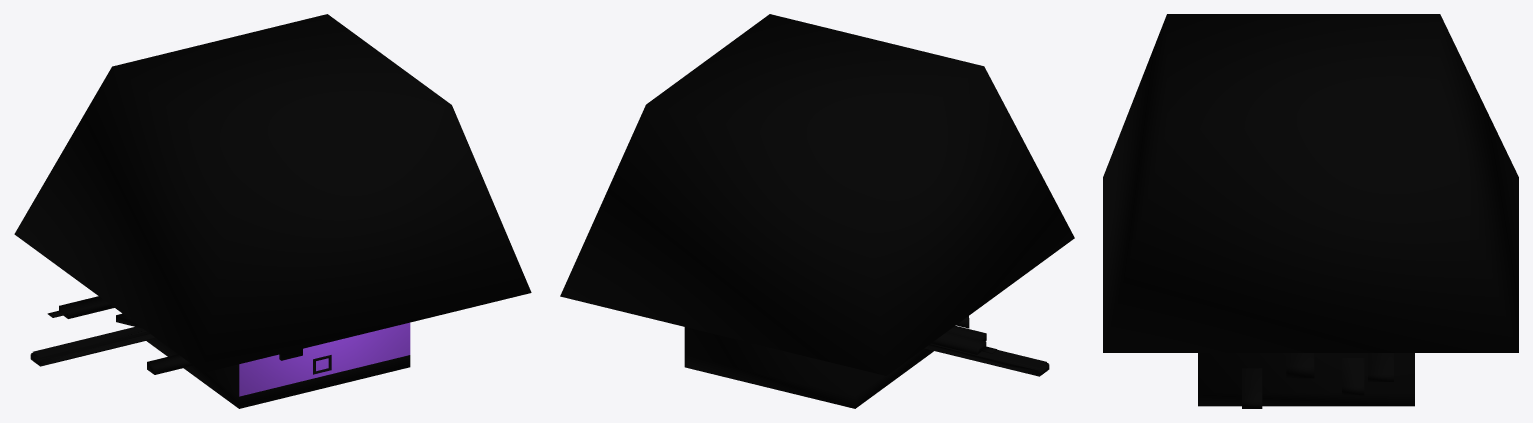
File: hongo malo.glb
3 views of the same model, side by side, from view 1: azimuth 30°, elevation 25°; view 2: azimuth 150°, elevation 25°; view 3: azimuth 270°, elevation 25° (orthographic). The views are drawn at different scales.
Visible parts, largest first — view 1: Cubo; view 2: Cubo; view 3: Cubo.
Boxes of the visible parts, x1,y1,x2,y2 form: Cubo: (14, 14, 531, 408); Cubo: (560, 14, 1074, 408); Cubo: (1103, 14, 1518, 408).
Bounding box in the file's own units: 5.04 × 2.97 × 3.83.
